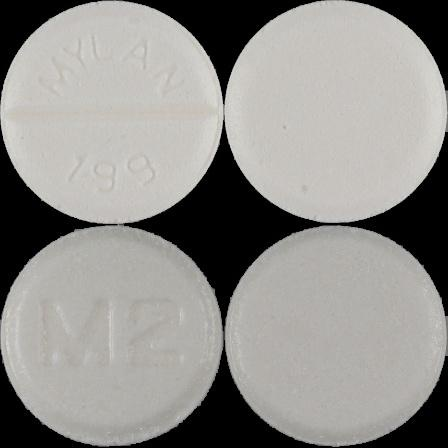0378-0199: (0, 0, 224, 224)
